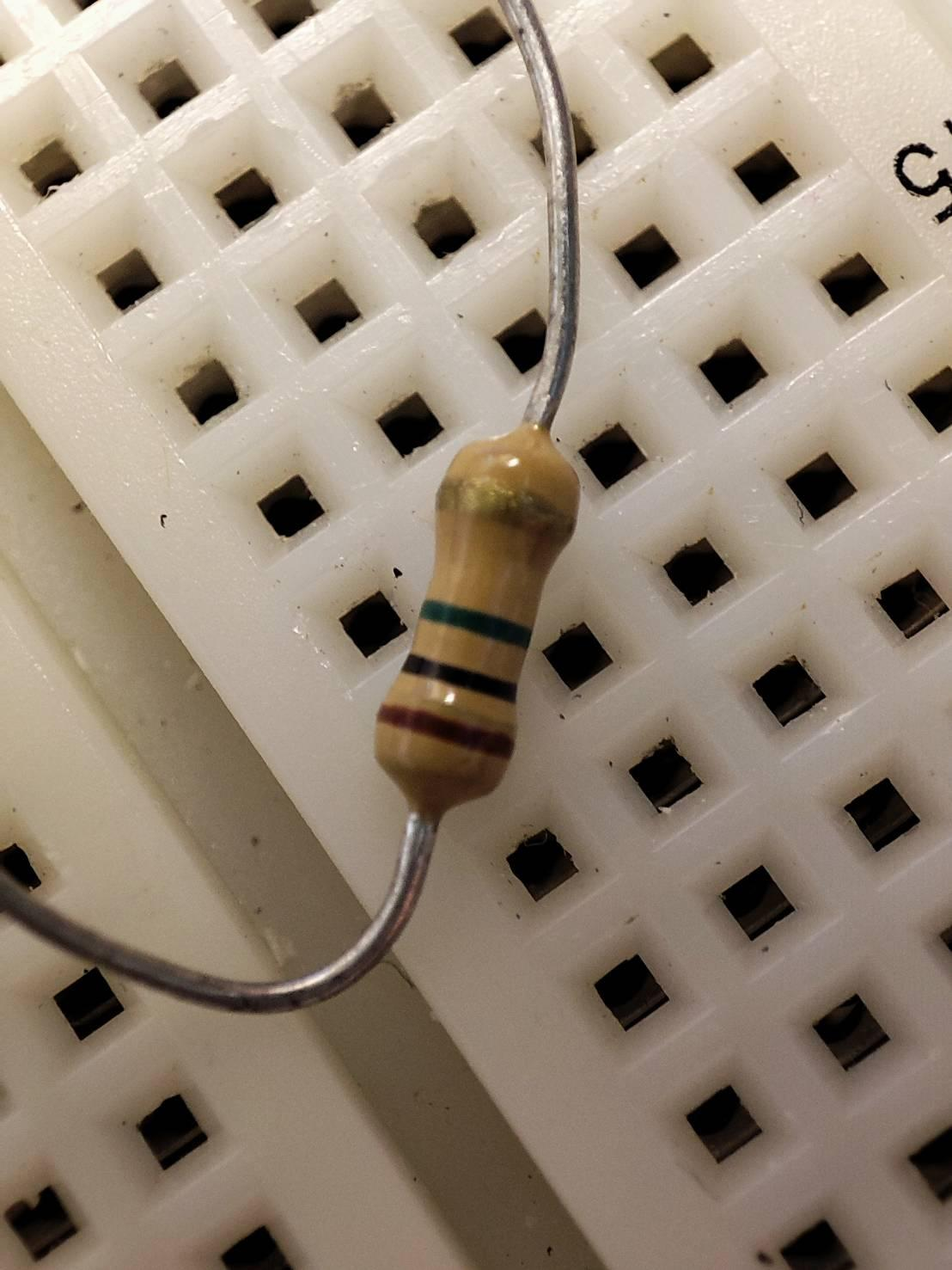resistor: (394, 426, 553, 810)
